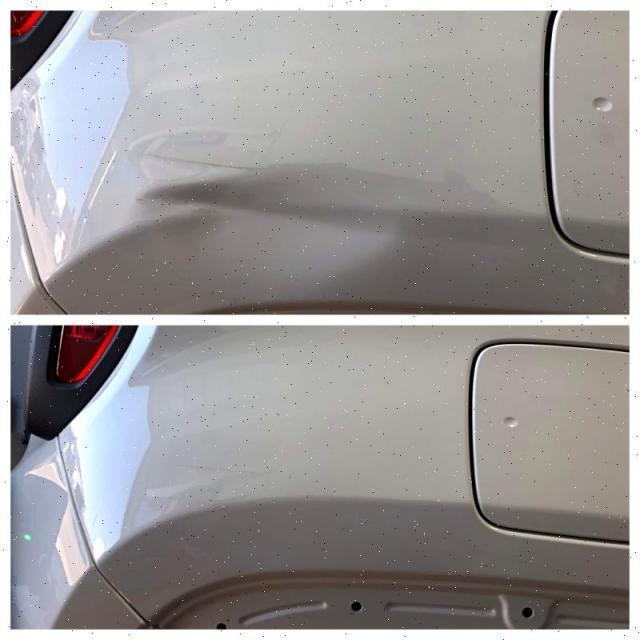dent: (146, 168, 410, 240)
